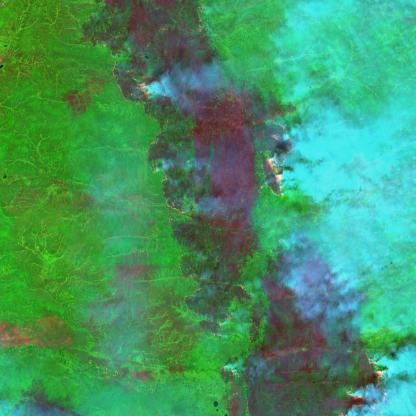fire: (336, 349, 392, 416), (256, 116, 295, 202), (110, 58, 159, 108)
